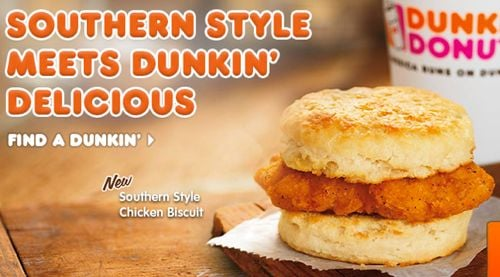soup: (252, 84, 496, 266)
